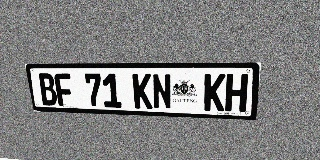1: (101, 73, 122, 108)
7: (83, 73, 104, 107)
B: (37, 73, 58, 106)
F: (54, 73, 75, 106)
H: (225, 74, 249, 112)
K: (204, 74, 226, 111), (132, 74, 153, 109)
N: (152, 74, 172, 110)
